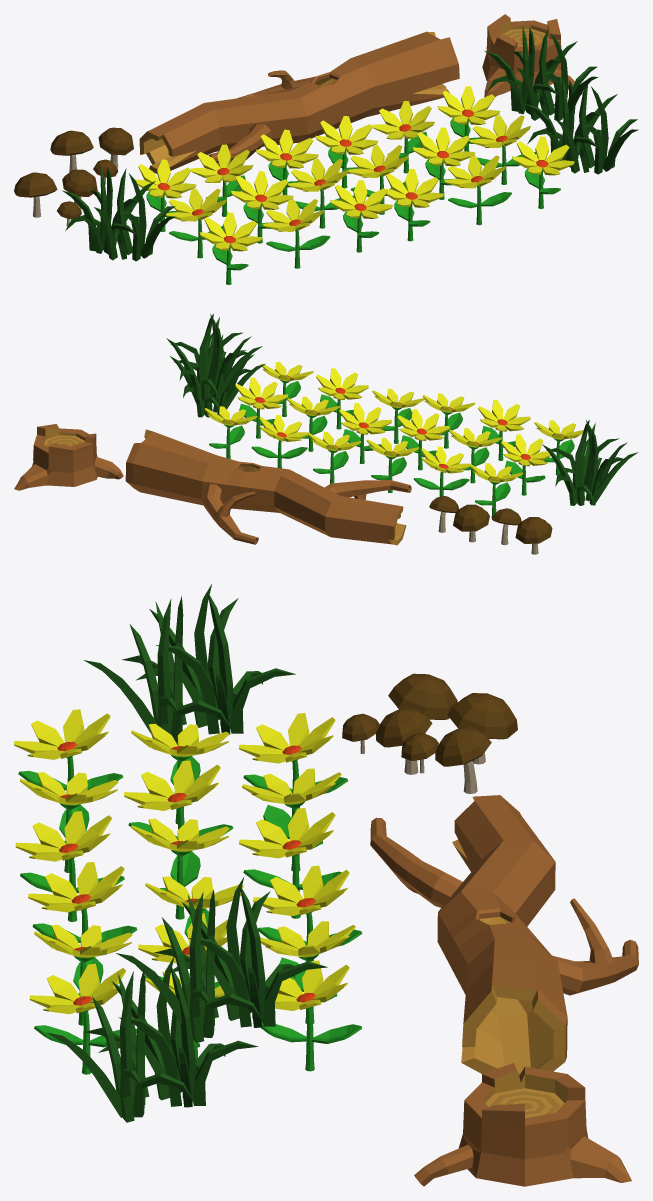
File: flower.gltf
3 renders of one model, top to bottom at view 1: azimuth 30°, elevation 25°; view 2: azimuth 150°, elevation 25°; view 3: azimuth 270°, elevation 25°, orthographic. The views are drawn at different scales.
Parts seen in each view (by area): view 1: Circle, Cube.054, Cube.052, Cube.053, Circle.001, Cube.010, Cube.046, Cube.006, Cube.050, Cube.051, Cube.011, Cube.048 (+15 smaller); view 2: Circle, Circle.001, Cube.054, Cube.052, Cube.053, Cube.009, Cube.049, Cube.047, Cube.007, Cube.051, Cube.011, Cube.044 (+15 smaller); view 3: Circle, Circle.001, Cube.052, Cube.053, Cube.054, Cube.043, Cube.046, Cube, Cube.050, Cube.010, Cube.006, Cube.004 (+16 smaller).
Part boxes in pixels (x1,y1,x2,y2): Circle: [139, 31, 459, 173]; Cube.054: [62, 165, 176, 261]; Cube.052: [484, 25, 598, 121]; Cube.053: [524, 78, 638, 174]; Circle.001: [482, 14, 582, 97]; Cube.010: [199, 212, 262, 284]; Cube.046: [512, 136, 574, 208]; Cube.006: [330, 180, 392, 252]; Cube.050: [381, 169, 443, 241]; Cube.051: [444, 155, 511, 225]; Cube.011: [262, 199, 330, 268]; Cube.048: [412, 127, 475, 199]; Circle: [125, 429, 411, 545]; Circle.001: [14, 424, 123, 490]; Cube.054: [542, 420, 638, 505]; Cube.052: [166, 314, 262, 399]; Cube.053: [170, 334, 265, 417]; Cube.009: [501, 434, 553, 495]; Cube.049: [339, 403, 391, 463]; Cube.047: [235, 377, 287, 438]; Cube.007: [397, 409, 449, 470]; Cube.051: [316, 368, 368, 429]; Cube.011: [478, 399, 530, 460]; Cube.044: [251, 415, 309, 468]; Circle: [370, 795, 638, 1075]; Circle.001: [414, 1063, 631, 1186]; Cube.052: [116, 876, 327, 1043]; Cube.053: [46, 956, 258, 1122]; Cube.054: [83, 584, 295, 744]; Cube.043: [261, 960, 362, 1071]; Cube.046: [29, 963, 136, 1074]; Cube: [239, 808, 341, 918]; Cube.050: [28, 862, 137, 942]; Cube.010: [14, 709, 123, 790]; Cube.006: [15, 811, 124, 921]; Cube.004: [239, 713, 347, 817].
Bounding box in the file's own units: 1.19 × 0.2657 × 0.6776.
